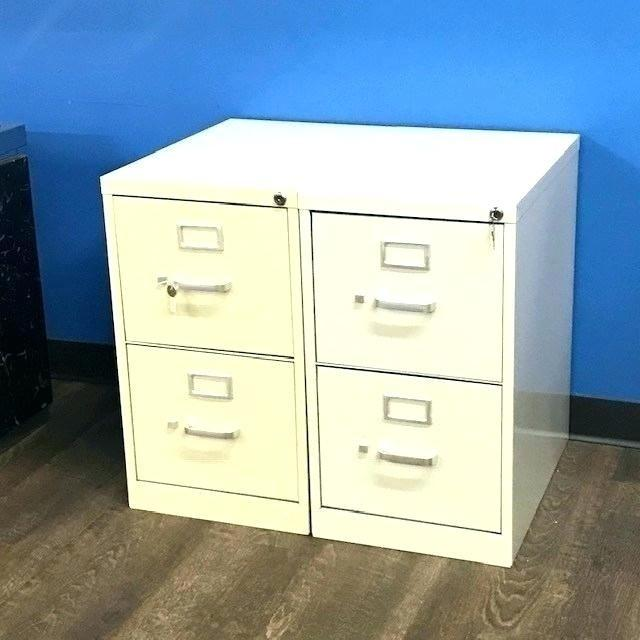cabinet_door: (315, 220, 504, 373), (319, 375, 505, 519), (120, 207, 295, 351), (136, 355, 300, 492)
handle: (366, 294, 442, 324), (160, 274, 236, 299), (374, 446, 440, 473), (180, 423, 242, 444)
